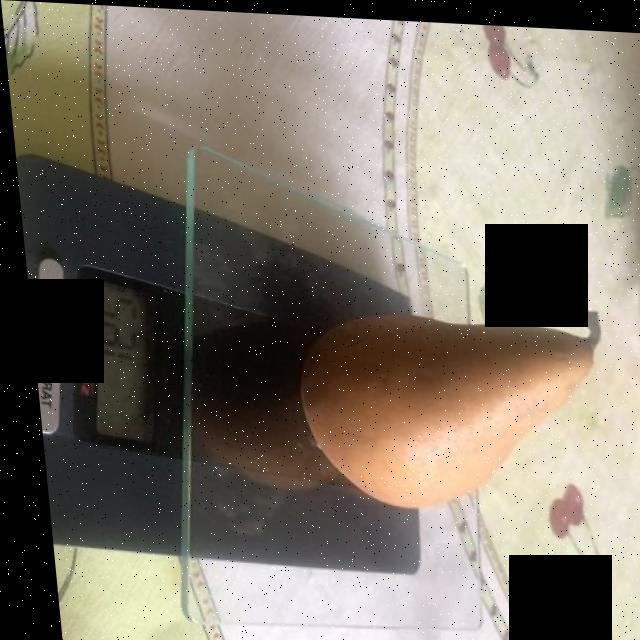pear: (302, 312, 587, 503)
